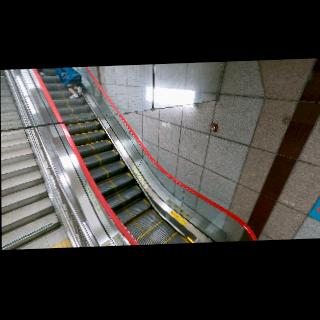anomaly: (58, 67, 85, 101)
